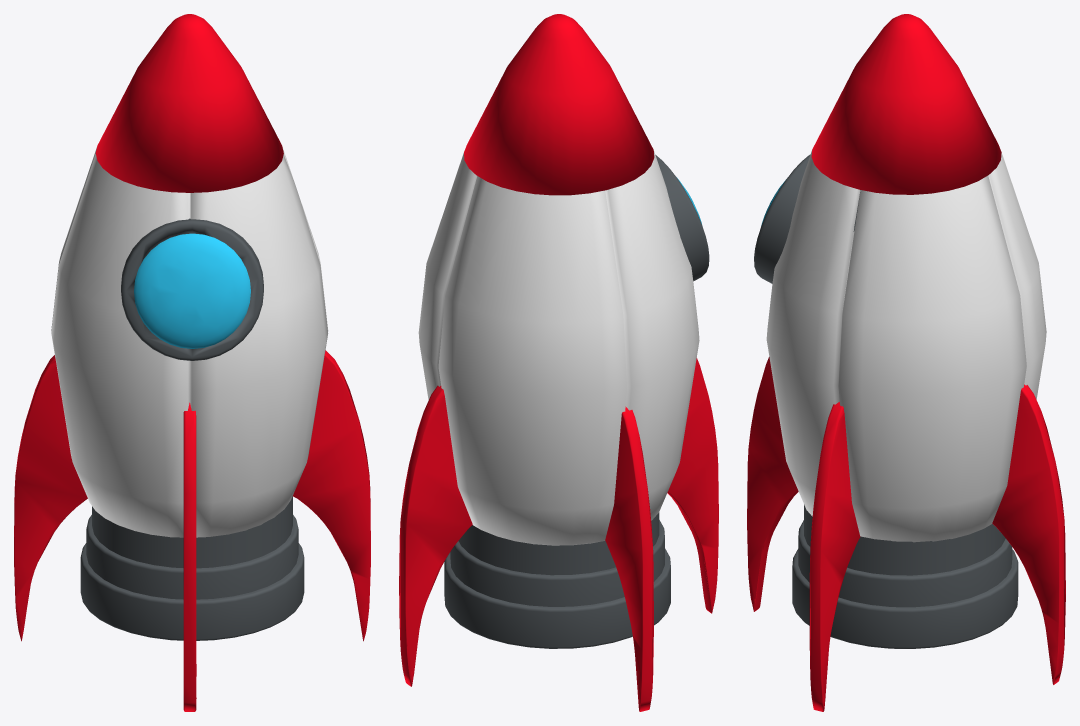
Rendered from Toy181.fbx.
3 views of the same model, side by side, from view 1: azimuth 30°, elevation 25°; view 2: azimuth 150°, elevation 25°; view 3: azimuth 270°, elevation 25° (orthographic).
Parts seen in each view (by area): view 1: Toy181; view 2: Toy181; view 3: Toy181.
Part boxes in pixels (x1,y1,x2,y2): Toy181: (14,14,370,711); Toy181: (399,14,718,711); Toy181: (747,14,1065,711).
Bounding box in the file's own units: 0.0868 × 0.1888 × 0.0868.
